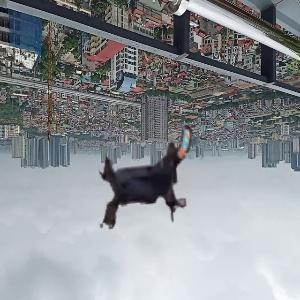drone: (83, 117, 209, 243)
